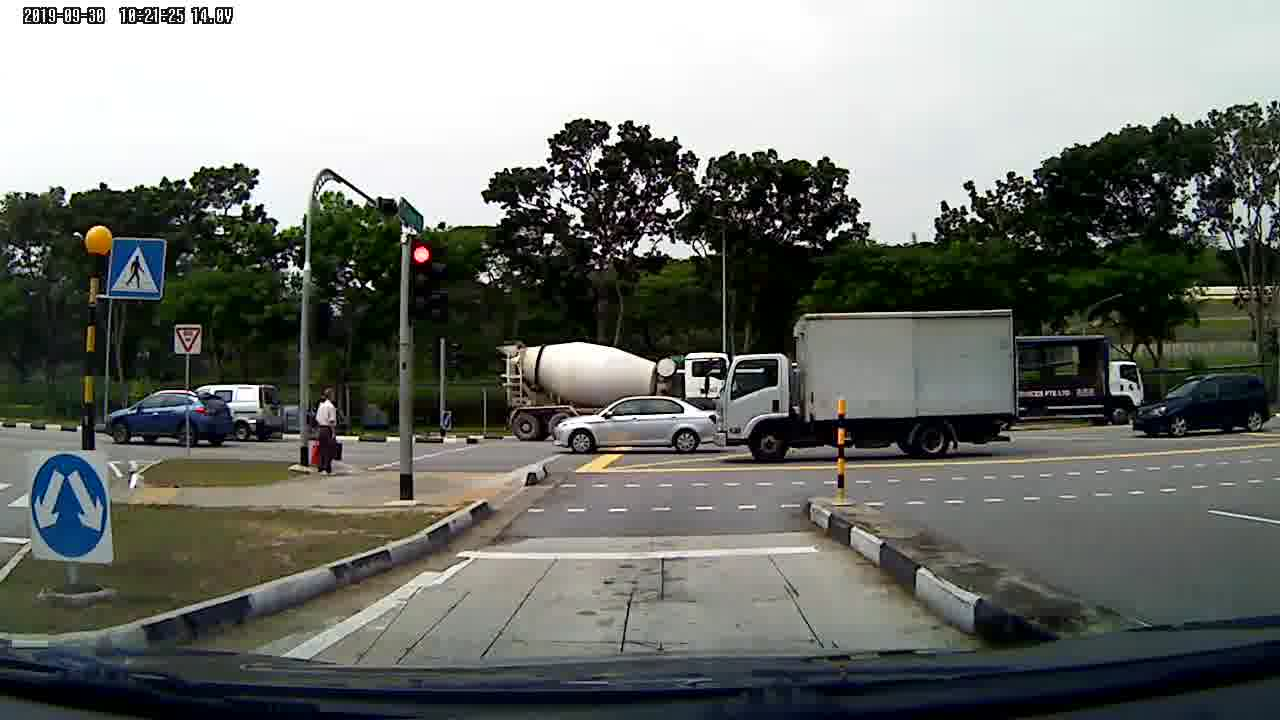car: (550, 395, 725, 466), (1131, 373, 1280, 447), (101, 390, 235, 452)
